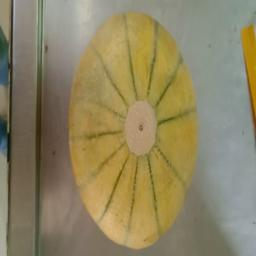Melon Semifresh: (62, 15, 207, 256)
